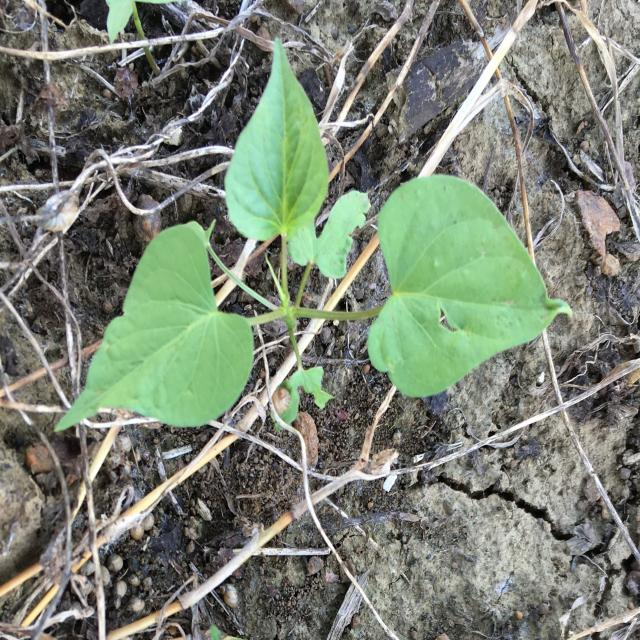MorningGlory: (54, 39, 574, 439)
